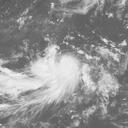cyclone: (35, 50, 81, 96)
